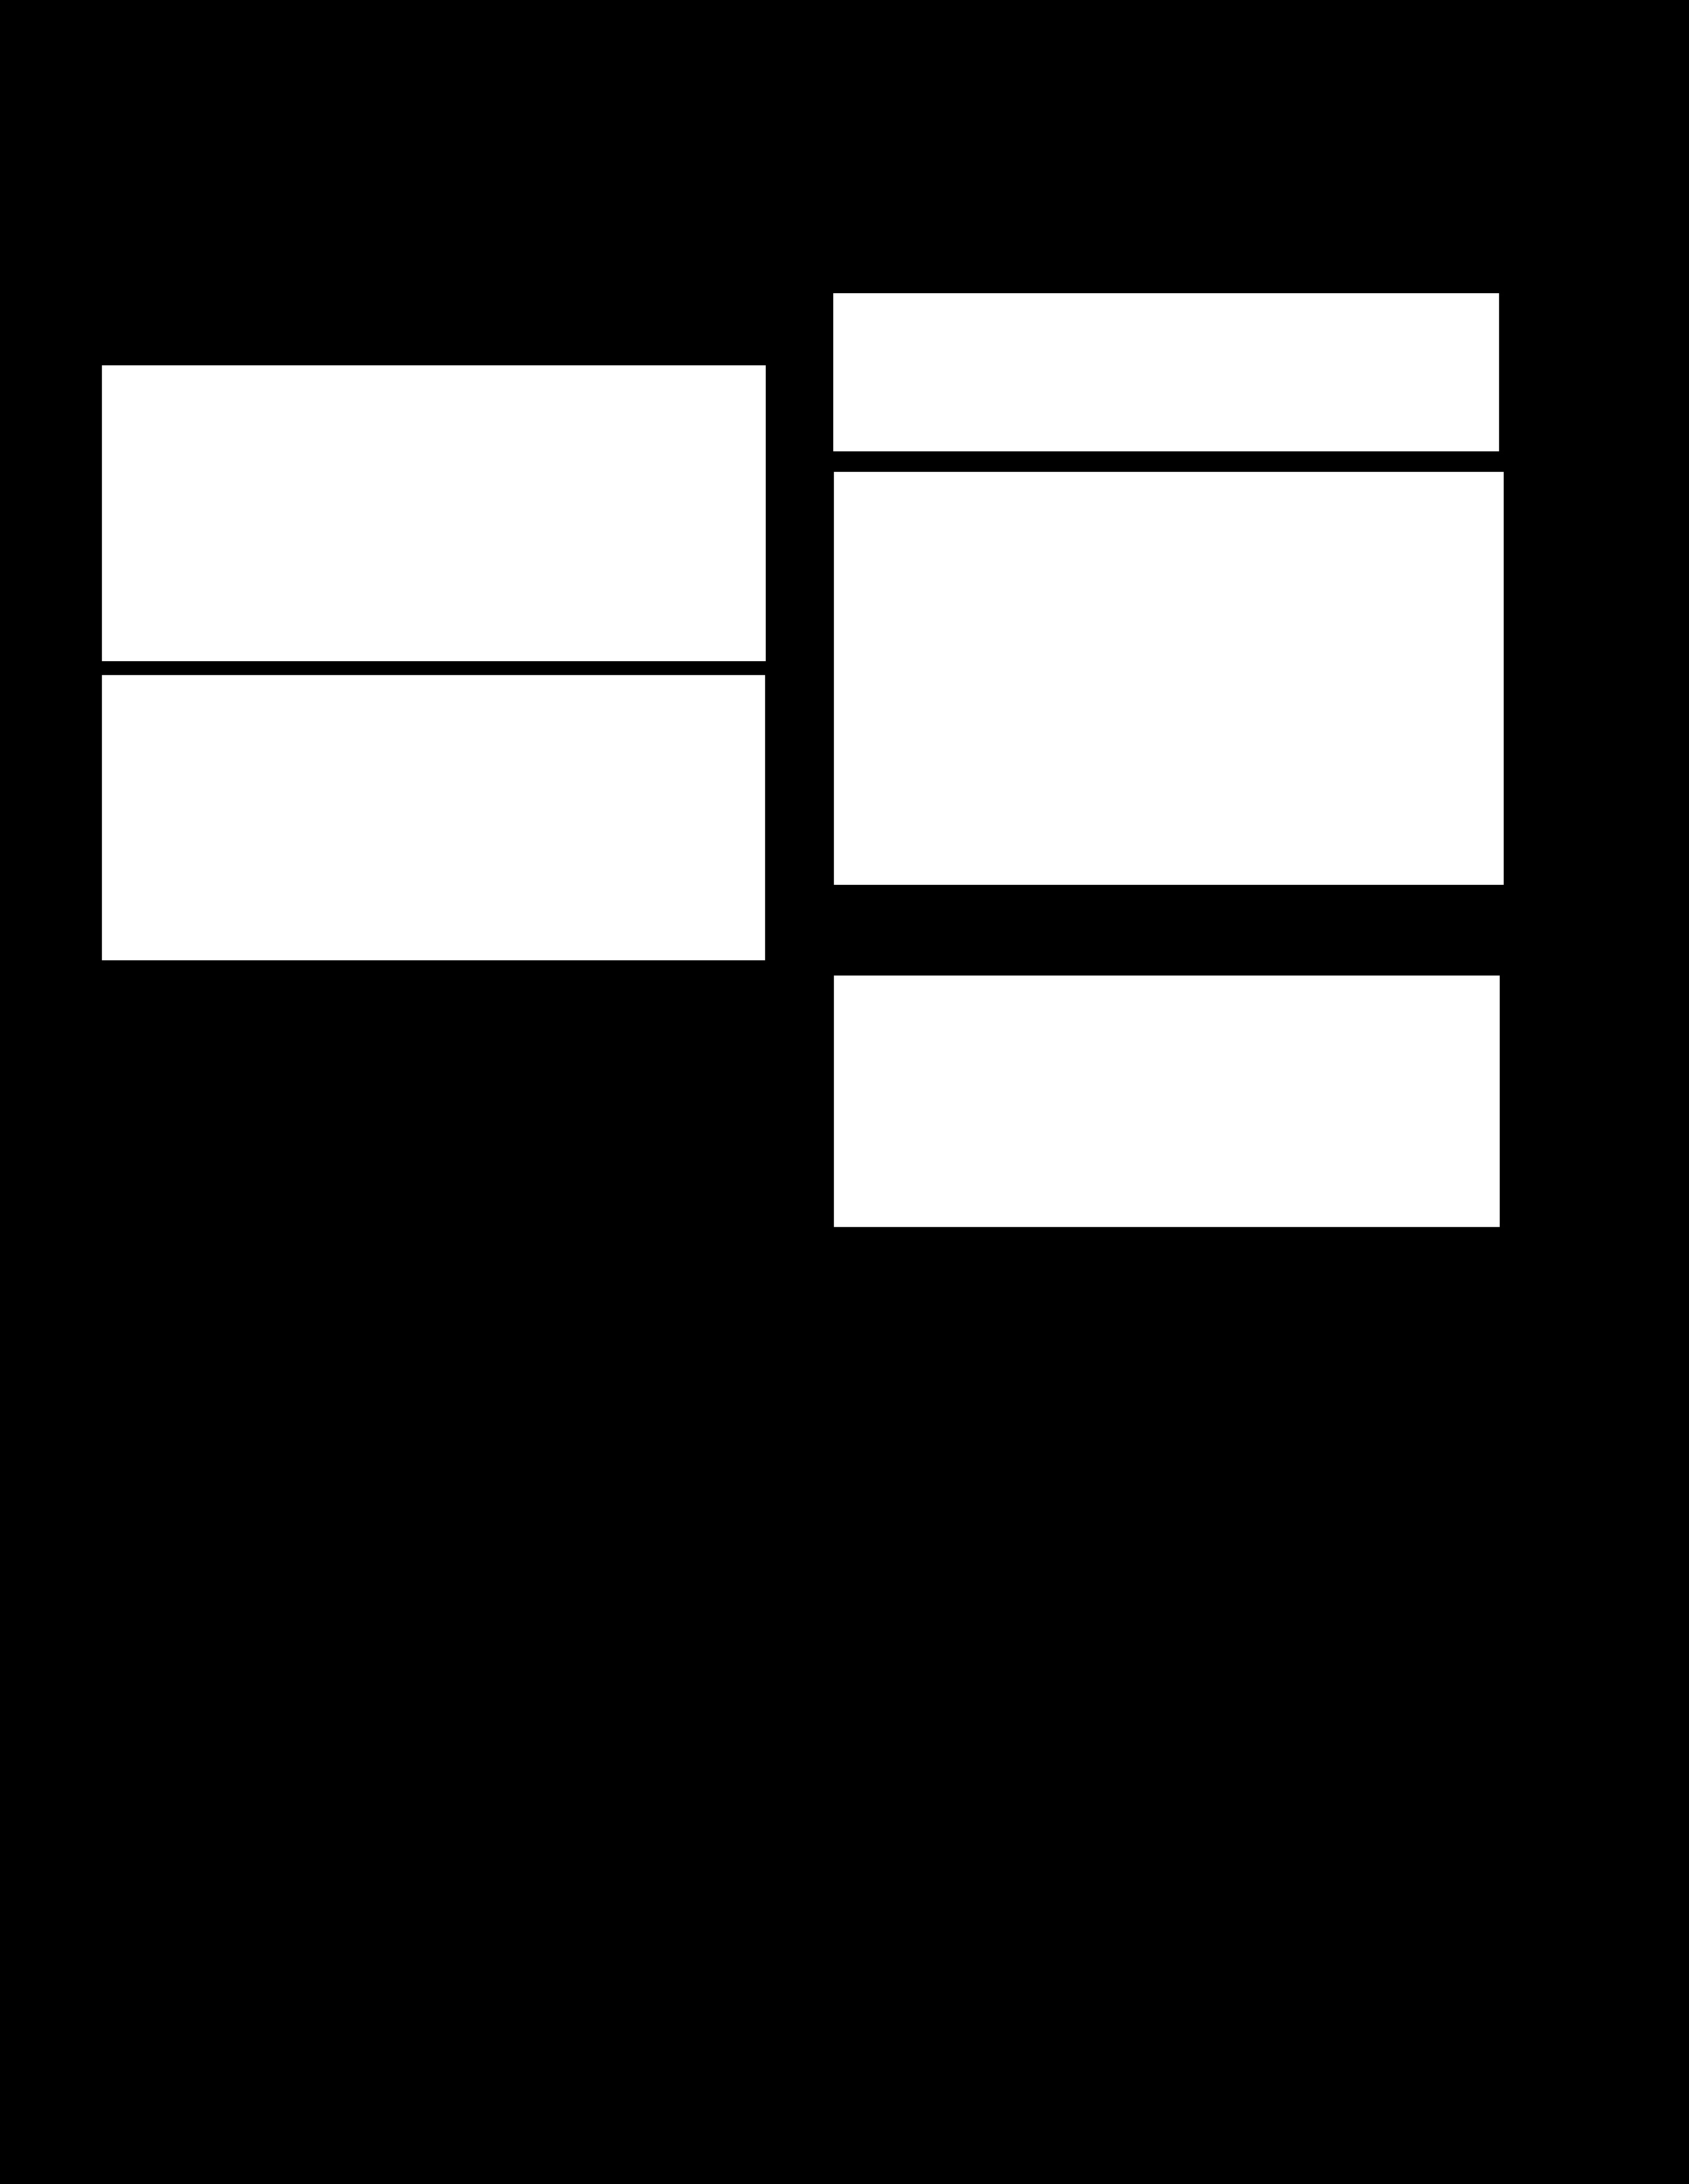table: (835, 472, 1503, 885), (103, 365, 766, 661), (103, 675, 764, 959), (835, 975, 1499, 1227), (833, 292, 1498, 450)
